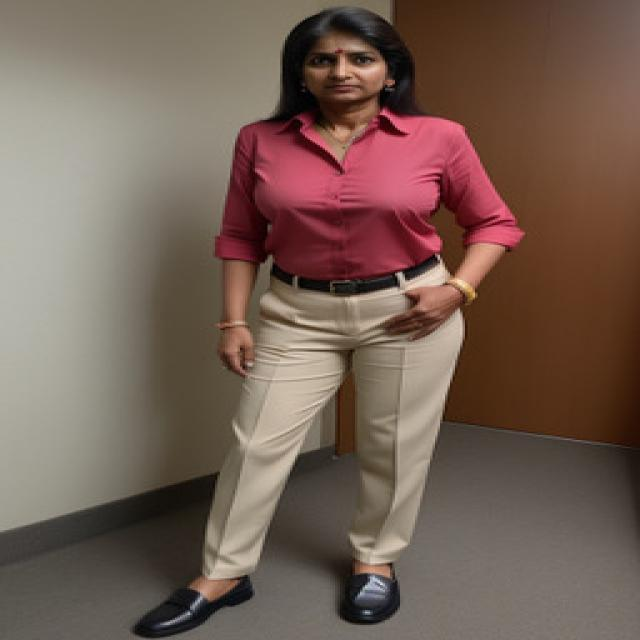Ai human 2: (171, 0, 529, 640)
